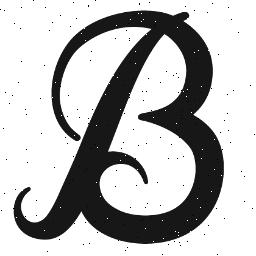b: (91, 0, 229, 248)
